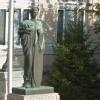Statue: (15, 7, 59, 90)
